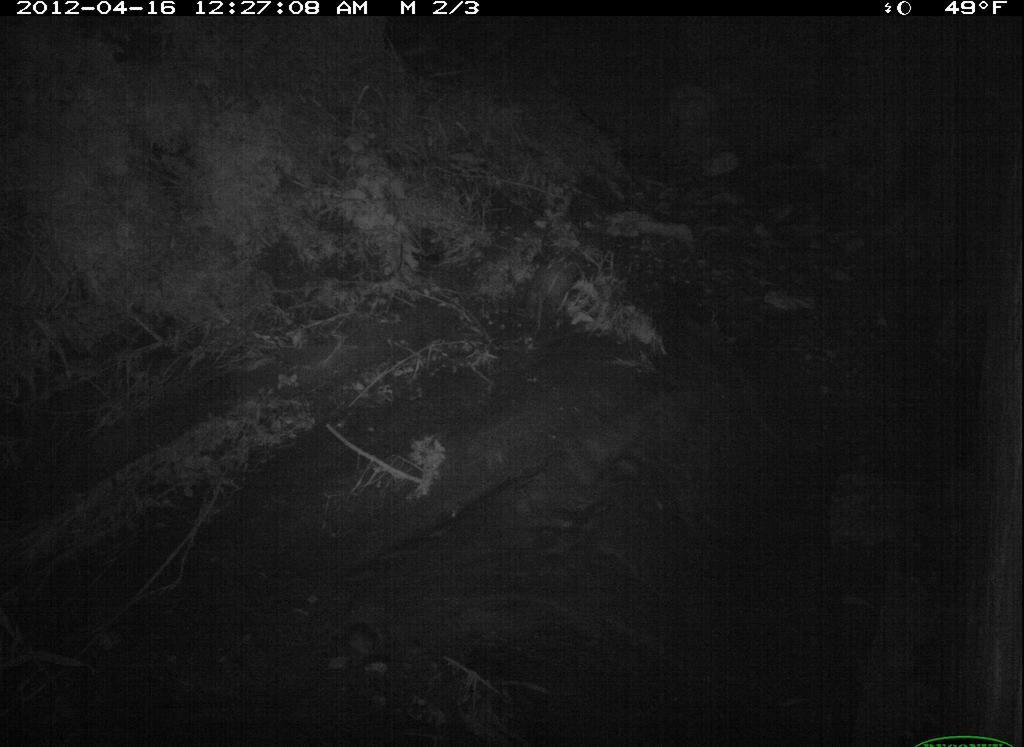opossum: (509, 239, 598, 342)
